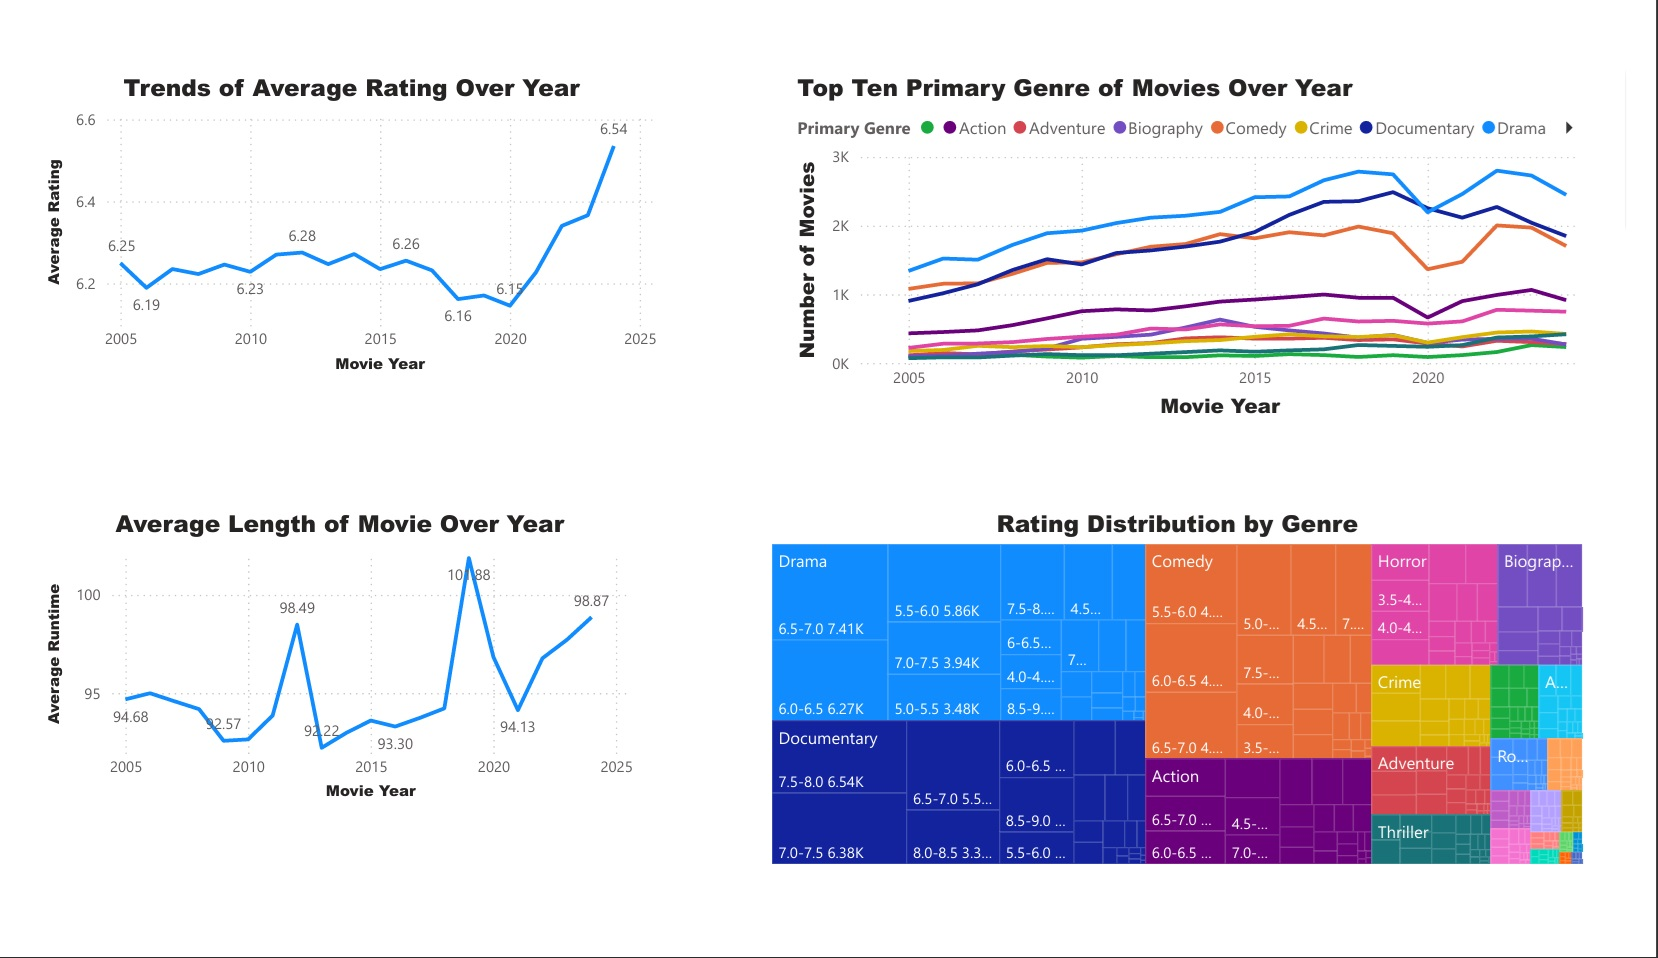

Layout of this report page (visuals, bound fields, positions):
{"tool":"powerbi","page":{"name":"Analysis","canvas":[1280,720],"ordinal":1},"visuals":[{"type":"lineChart","title":"Trends of Average Rating Over Year","fields":{"Y":["Avg(title_basics_title_rating_movie V2.Rating)"],"Category":["title_basics_title_rating_movie V2.Year"]},"box":[12.2,33.9,497.2,249.3],"z":2000},{"type":"lineChart","title":"Average Length of Movie Over Year","fields":{"Category":["title_basics_title_rating_movie V2.Year"],"Y":["Avg(title_basics_title_rating_movie V2.Runtime)"]},"box":[12.2,383.4,478.2,241.2],"z":3000},{"type":"treemap","title":"Rating Distribution  by Genre","fields":{"Group":["title_basics_title_rating_movie V2.Primary Genre"],"Details":["title_basics_title_rating_movie V2.Rate Category"],"Values":["CountNonNull(title_basics_title_rating_movie V2.Title)"]},"box":[592,383.4,658.4,291.3],"z":4000},{"type":"lineChart","title":"Top Ten Primary Genre of Movies Over Year","fields":{"Category":["title_basics_title_rating_movie V2.Year"],"Y":["CountNonNull(title_basics_title_rating_movie V2.Title)"],"Series":["title_basics_title_rating_movie V2.Primary Genre"]},"box":[612.4,33.9,638.1,284.5],"z":5000}]}

Visuals, with their boxes in screenshot pixels (x1, y1, x2, y2), scaled from the page's 1280x720 canvas onto the 1658x958 screenshot:
"Trends of Average Rating Over Year" lineChart: {"x1": 16, "y1": 45, "x2": 660, "y2": 377}
"Average Length of Movie Over Year" lineChart: {"x1": 16, "y1": 510, "x2": 635, "y2": 831}
"Rating Distribution  by Genre" treemap: {"x1": 767, "y1": 510, "x2": 1620, "y2": 898}
"Top Ten Primary Genre of Movies Over Year" lineChart: {"x1": 793, "y1": 45, "x2": 1620, "y2": 424}
